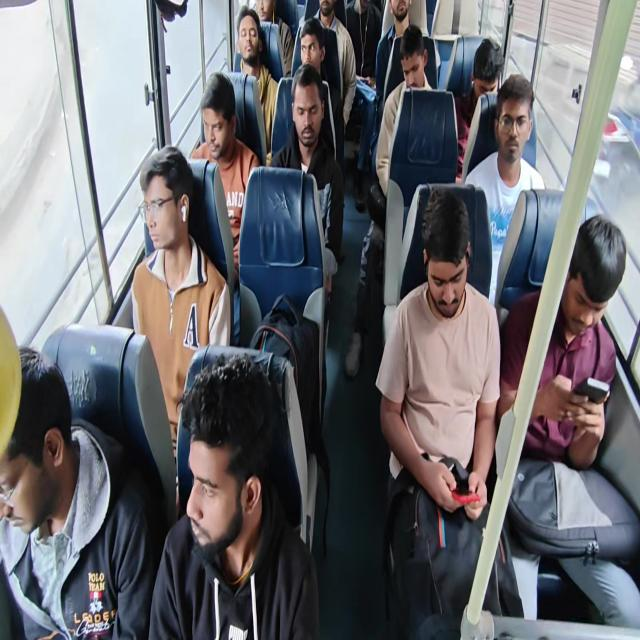person: (2, 1, 637, 638), (497, 212, 639, 628), (375, 187, 504, 638), (148, 352, 320, 639), (0, 345, 154, 639), (130, 146, 232, 504), (344, 24, 434, 378), (464, 73, 546, 306), (269, 63, 345, 295), (188, 71, 260, 275), (375, 25, 459, 196), (353, 0, 412, 211), (291, 17, 345, 169), (454, 38, 505, 180), (232, 5, 278, 154), (308, 0, 356, 128), (374, 0, 412, 110), (343, 0, 383, 86), (253, 0, 294, 77)
